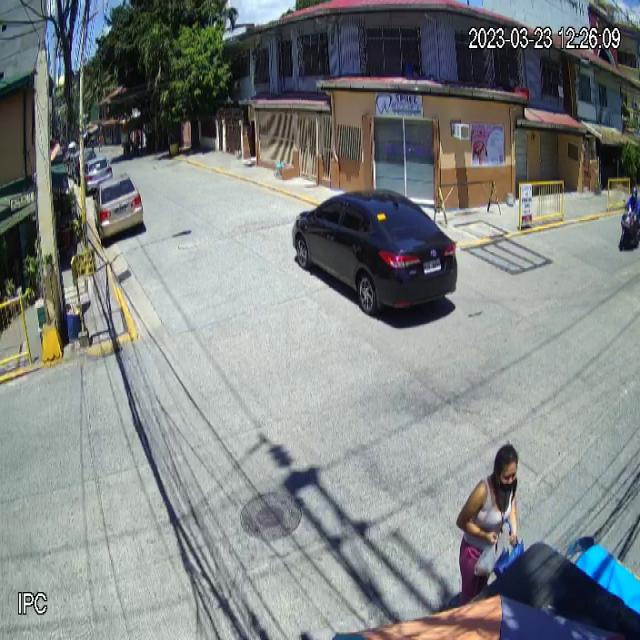Car: (292, 188, 458, 322), (92, 172, 144, 243)
